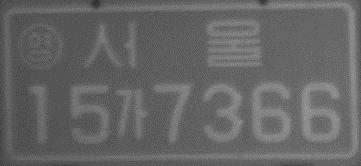1: (22, 83, 58, 148)
3: (200, 81, 246, 143)
5: (65, 82, 113, 146)
6: (249, 80, 292, 143), (301, 80, 343, 144)
7: (151, 81, 194, 148)
가: (113, 86, 151, 142)
서울_D: (81, 18, 266, 78)
영: (17, 21, 64, 72)
